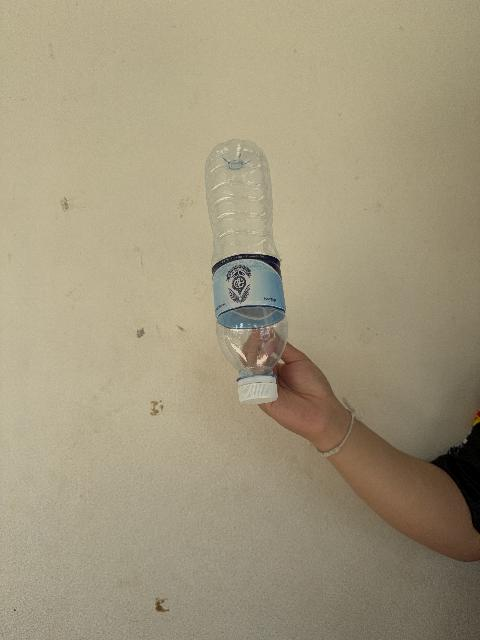bottle: (206, 140, 287, 403)
